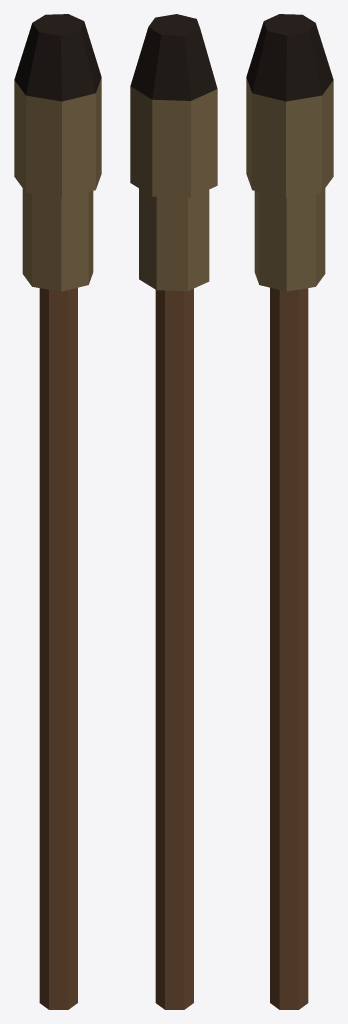
The model's file is torch.glb.
3 renders of one model, left to right at view 1: azimuth 30°, elevation 25°; view 2: azimuth 150°, elevation 25°; view 3: azimuth 330°, elevation 25°, orthographic.
Visible parts, largest first — view 1: torch; view 2: torch; view 3: torch.
Boxes of the visible parts, bbox=[...] form: torch: bbox=[14, 14, 101, 1009]; torch: bbox=[130, 14, 217, 1009]; torch: bbox=[246, 14, 333, 1009].
Bounding box in the file's own units: 0.0446 × 0.55 × 0.0435.
